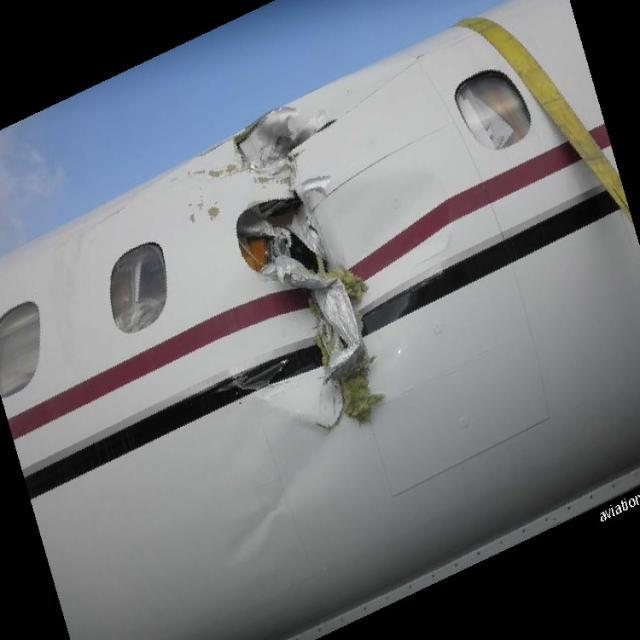crack: (213, 90, 384, 445)
dent: (352, 170, 458, 304), (221, 490, 291, 576)
